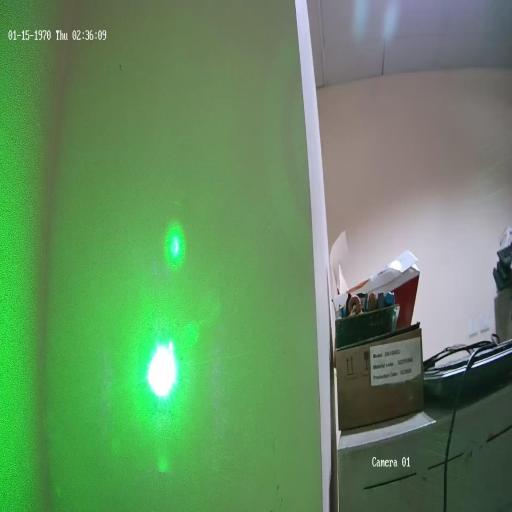laser: (139, 328, 184, 409)
